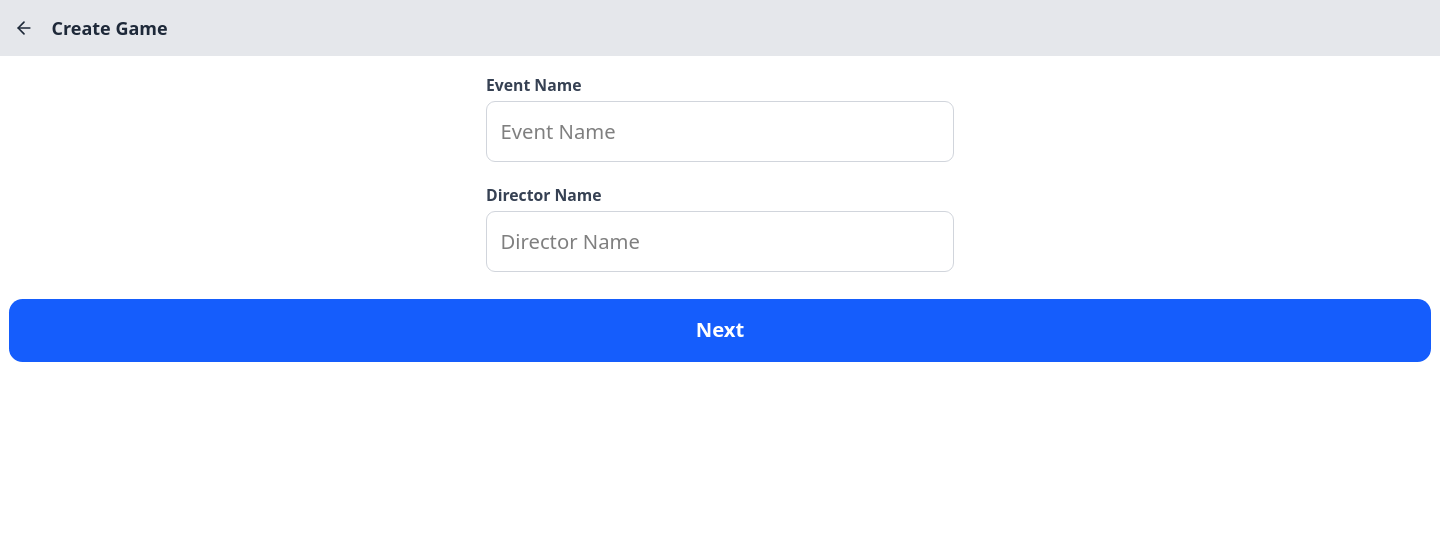
Test: CreateGamePage › preserves entered details when stepping back from options to details
The width and height of the screenshot is (1440, 547).
Type "Tuesday Pairs" into the field labelled "Event Name". click: (720, 131)
box: [486,101,954,162]
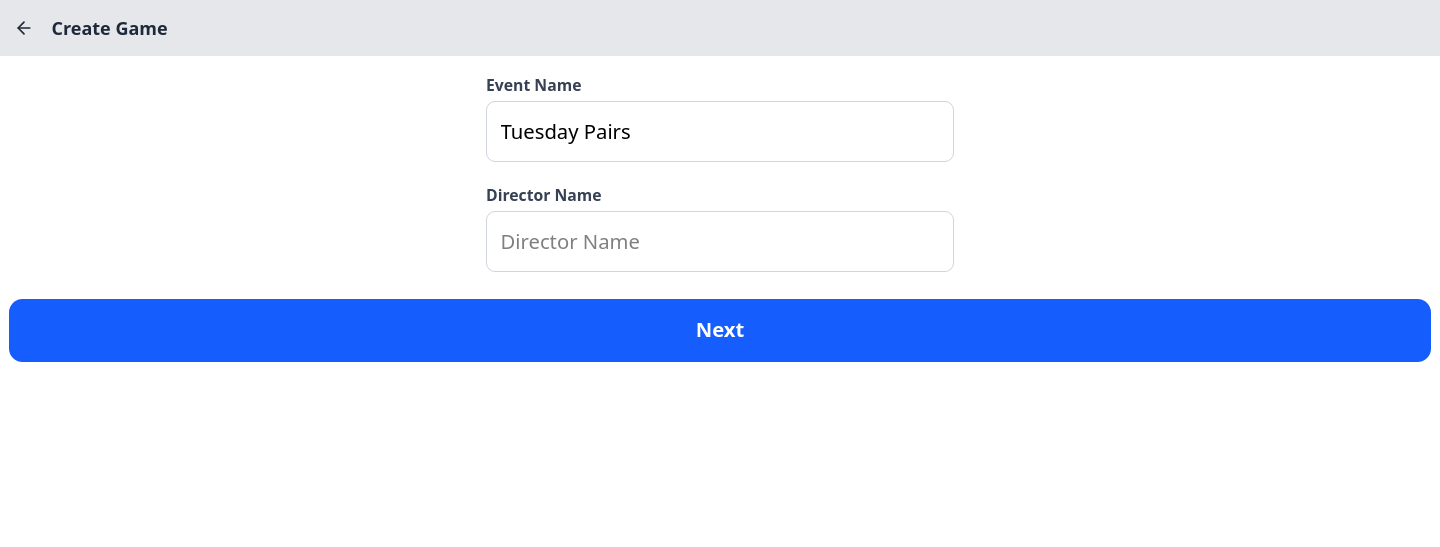
Type "Jane" into the field labelled "Director Name". click: (720, 241)
box: [486,211,954,272]
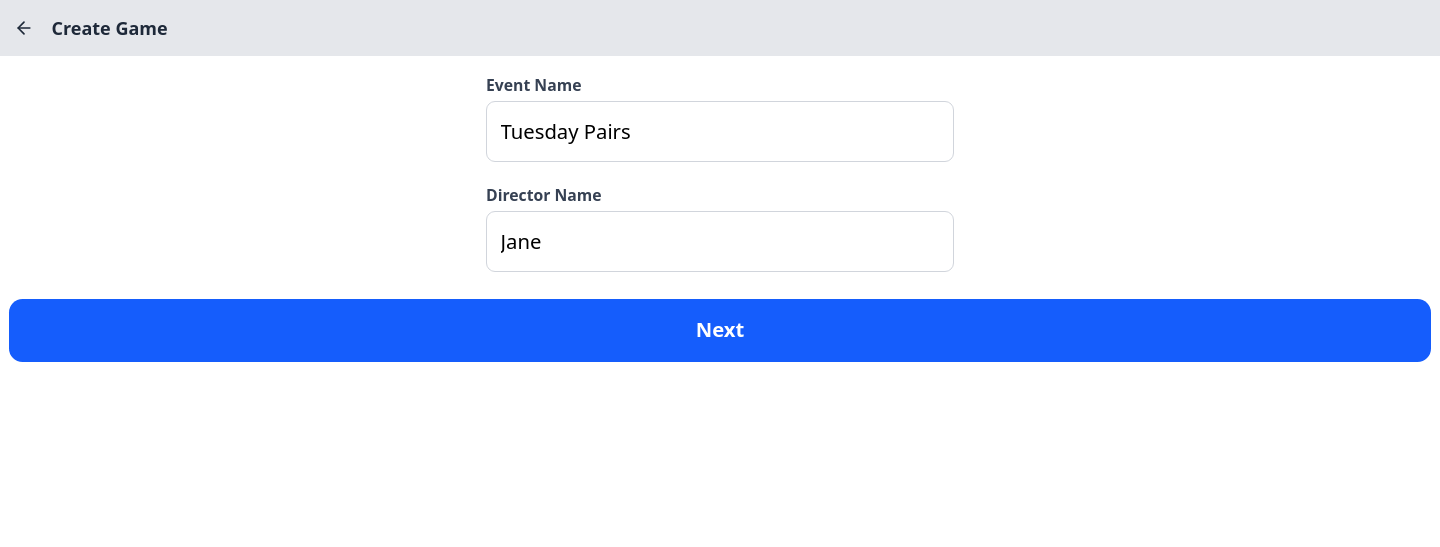
Click the button "Next". click: click(720, 330)
box: [9,298,1431,362]
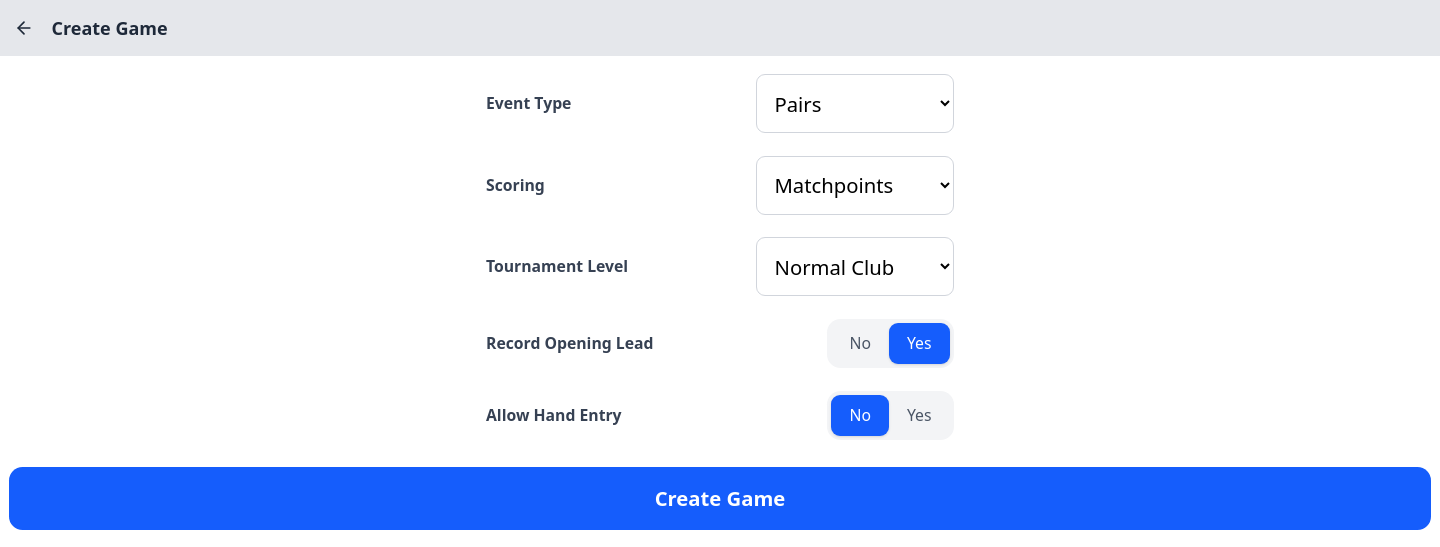
Click the button named "back". click: click(24, 28)
box: [4,9,42,47]
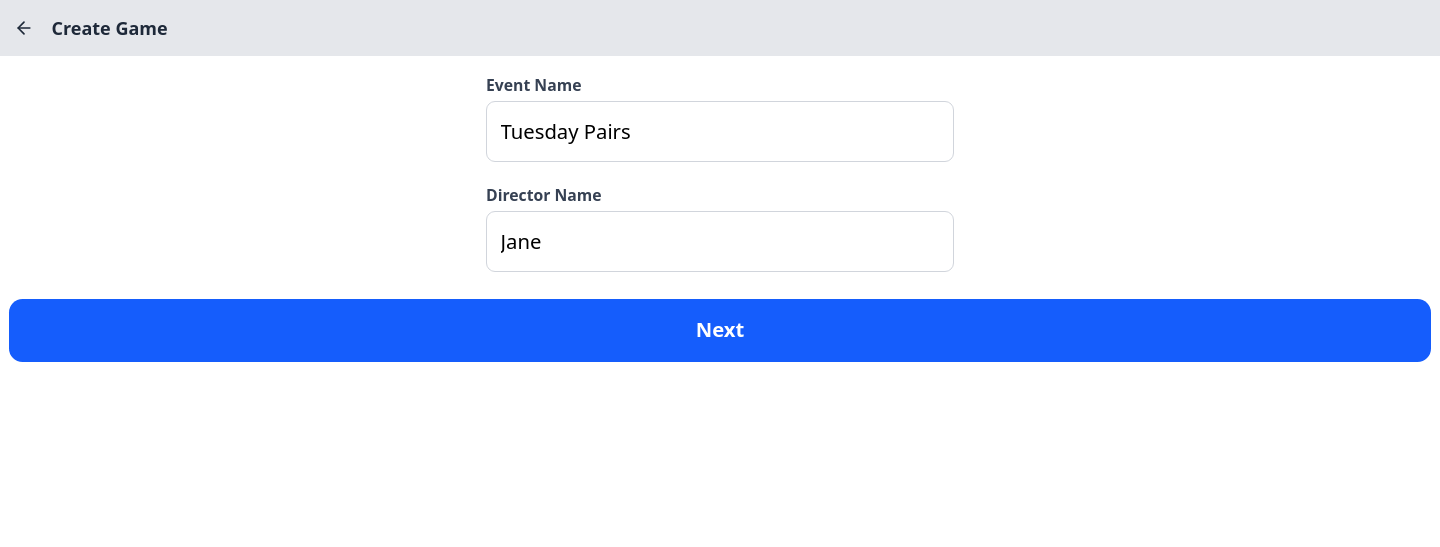
Result: the field labelled "Event Name" holds "Tuesday Pairs" at [486,101,954,162]
Result: the field labelled "Director Name" holds "Jane" at [486,211,954,272]
